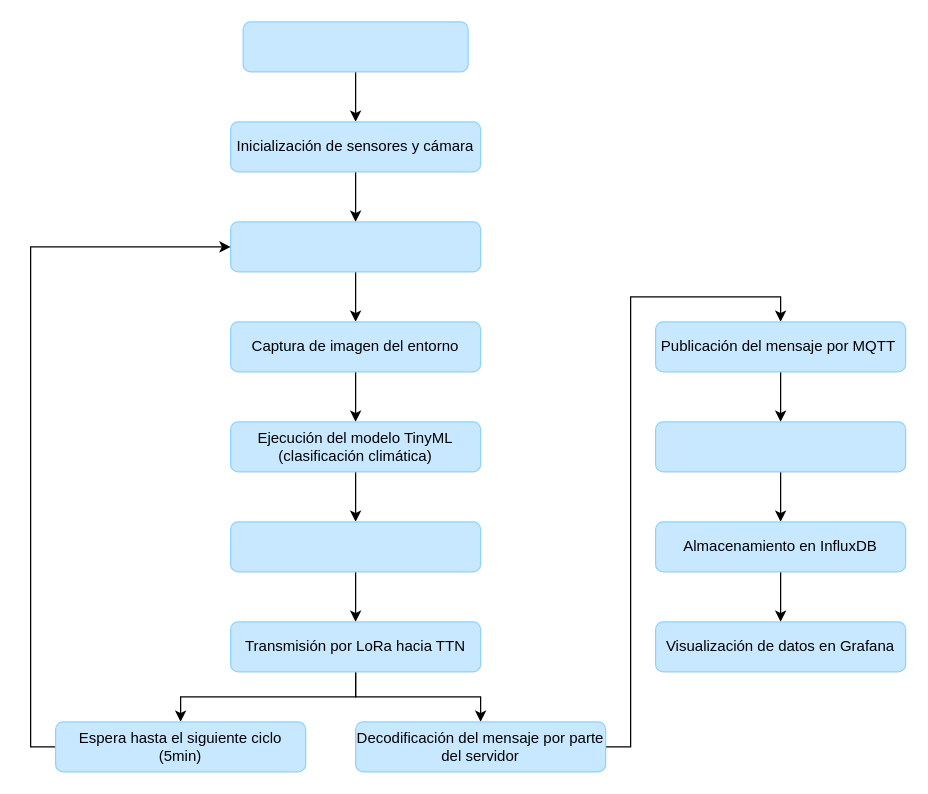
The diagram is 928 pixels wide and 794 high, and some of its shapes have lost their labels. The centre of each missing label's shape, as x and y in pixels:
"Codificación del paquete de datos" goes at (x=355, y=546).
"Inicio del ciclo" goes at (x=355, y=46).
"Lectura de datos de sensores ambientales" goes at (x=355, y=246).
"Recepción del mensaje en Telegraf" goes at (x=780, y=446).
